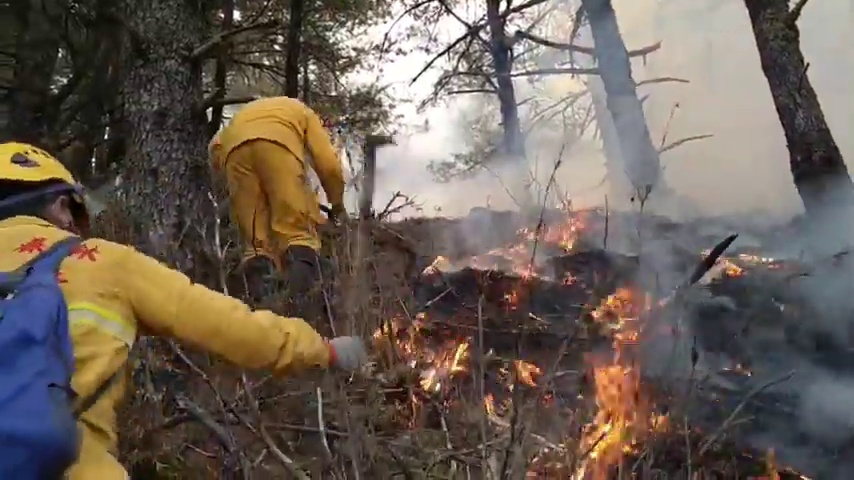fire: (584, 362, 638, 453), (478, 229, 567, 279), (419, 343, 468, 391), (602, 290, 638, 344)
